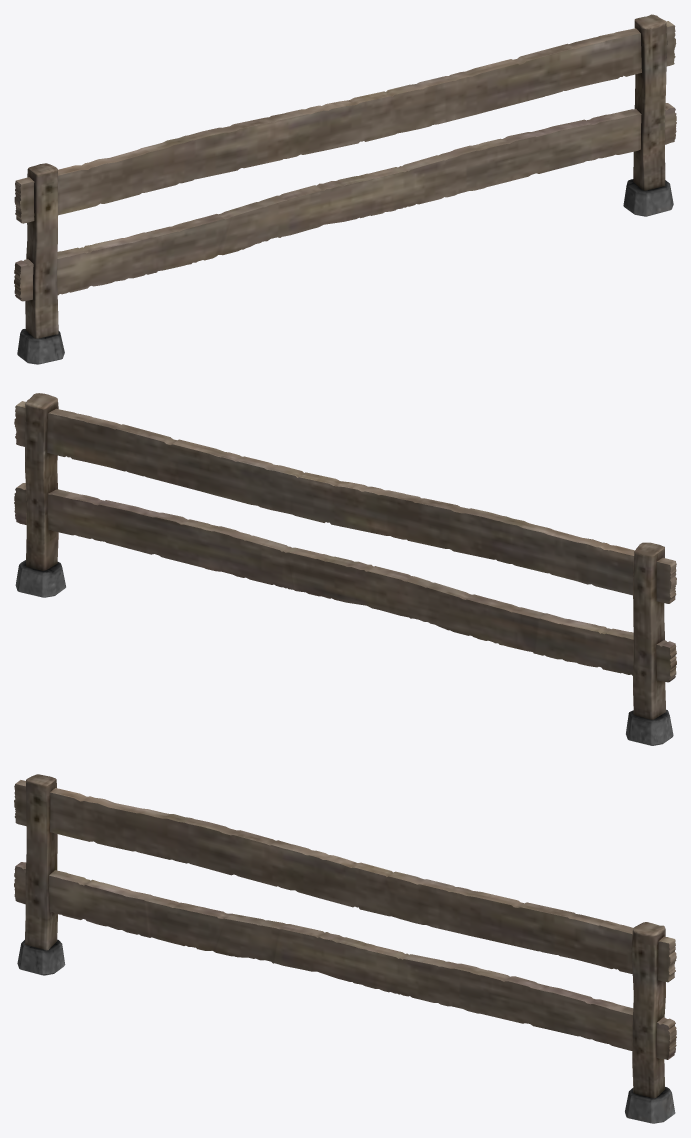
The model's file is SM_Fence_Wood_8358ed.glb.
3 renders of one model, top to bottom at view 1: azimuth 30°, elevation 25°; view 2: azimuth 150°, elevation 25°; view 3: azimuth 330°, elevation 25°, orthographic.
Size of the model in its own units: 4 by 1.09 by 0.2261.
Materials: 1 (1 with a texture image).
